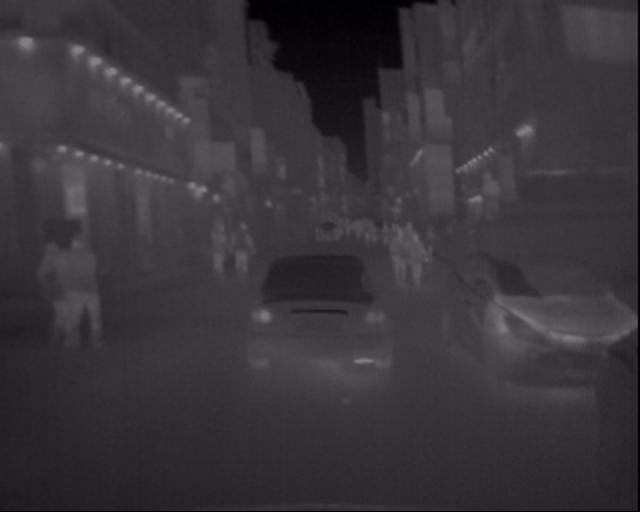person: (56, 235, 100, 372), (29, 244, 65, 364), (620, 168, 640, 257), (236, 221, 256, 282), (211, 226, 231, 284), (391, 228, 411, 281), (410, 236, 430, 281)
